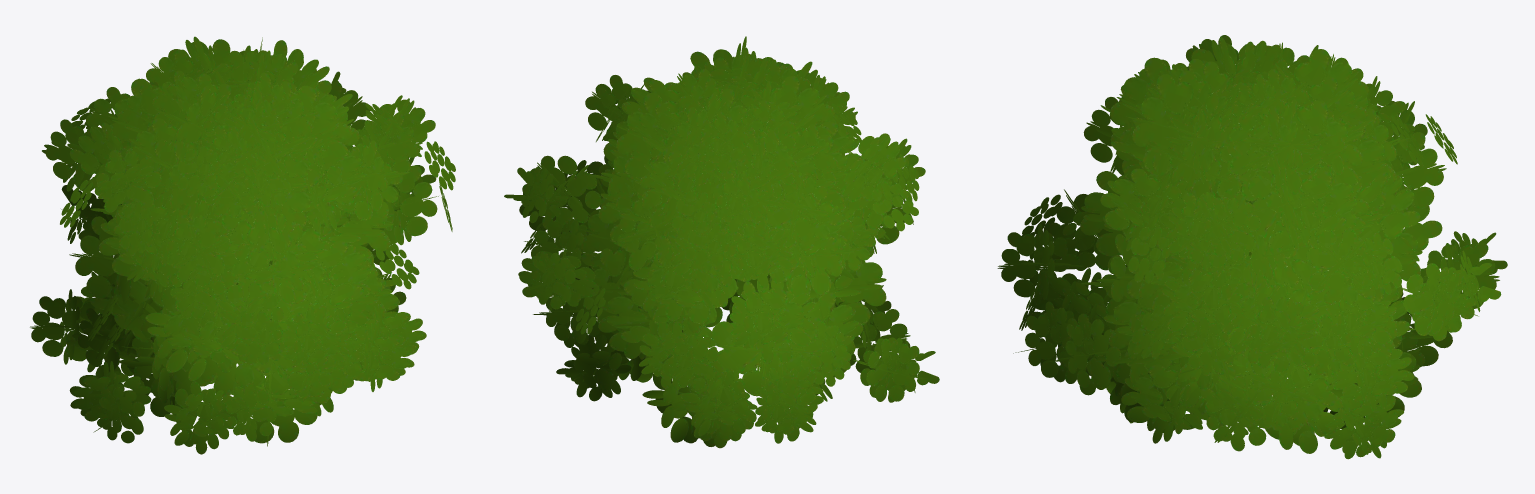
Rendered from bush-2.glb.
The picture shows the model from 3 angles, left to right: view 1: azimuth 30°, elevation 25°; view 2: azimuth 150°, elevation 25°; view 3: azimuth 270°, elevation 25°; orthographic projection. The views are drawn at different scales.
Visible parts, largest first — view 1: Bush_Large; view 2: Bush_Large; view 3: Bush_Large.
Part boxes in pixels (<box>): Bush_Large: <box>30,36,455,454</box>; Bush_Large: <box>504,36,939,448</box>; Bush_Large: <box>997,35,1507,459</box>.
Size of the model in its own units: 0.752 by 0.7001 by 0.7891.
Materials: 1 (1 with a texture image).
